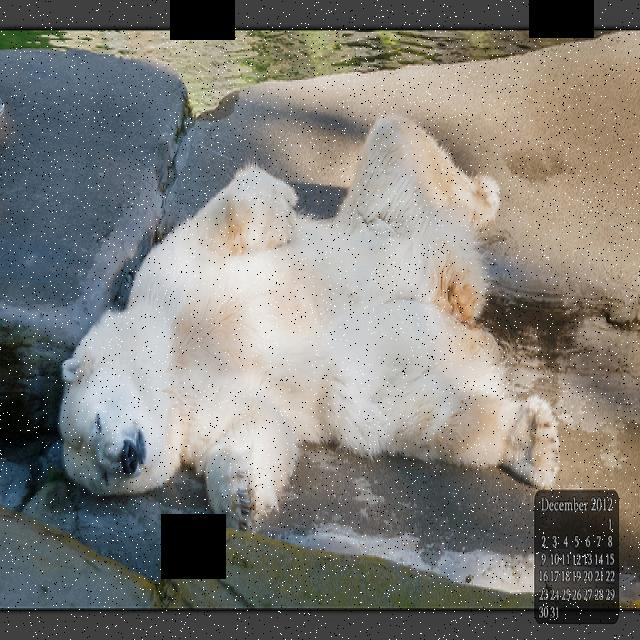Bear: (53, 100, 561, 540)
